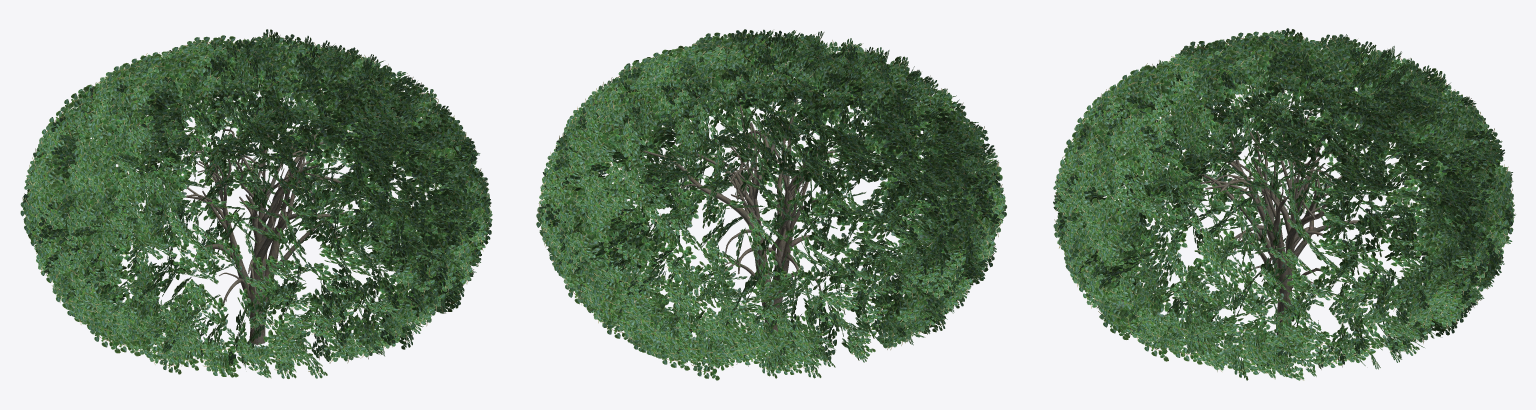
Rendered from RoundBush.fbx.
The picture shows the model from 3 angles, left to right: view 1: azimuth 30°, elevation 25°; view 2: azimuth 150°, elevation 25°; view 3: azimuth 270°, elevation 25°; orthographic projection.
Visible parts, largest first — view 1: image-from-rawpixel-id-17456768-png.010, tree.005; view 2: image-from-rawpixel-id-17456768-png.010, tree.005; view 3: image-from-rawpixel-id-17456768-png.010, tree.005.
Part boxes in pixels (x1,y1,x2,y2): image-from-rawpixel-id-17456768-png.010: (20,29,492,378); tree.005: (186,114,359,344); image-from-rawpixel-id-17456768-png.010: (536,29,1006,380); tree.005: (643,98,844,333); image-from-rawpixel-id-17456768-png.010: (1053,28,1515,380); tree.005: (1181,111,1396,335).
Size of the model in its own units: 202 by 133 by 202.
2 materials, 2 textured.
